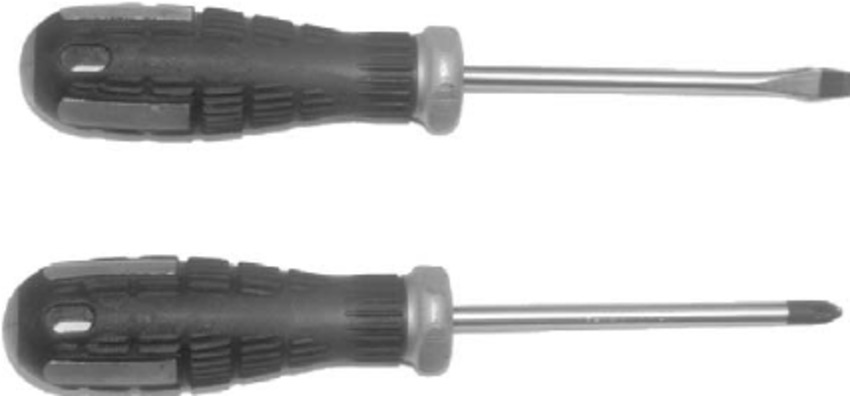screwdriver: (4, 235, 845, 395), (9, 3, 850, 151)
